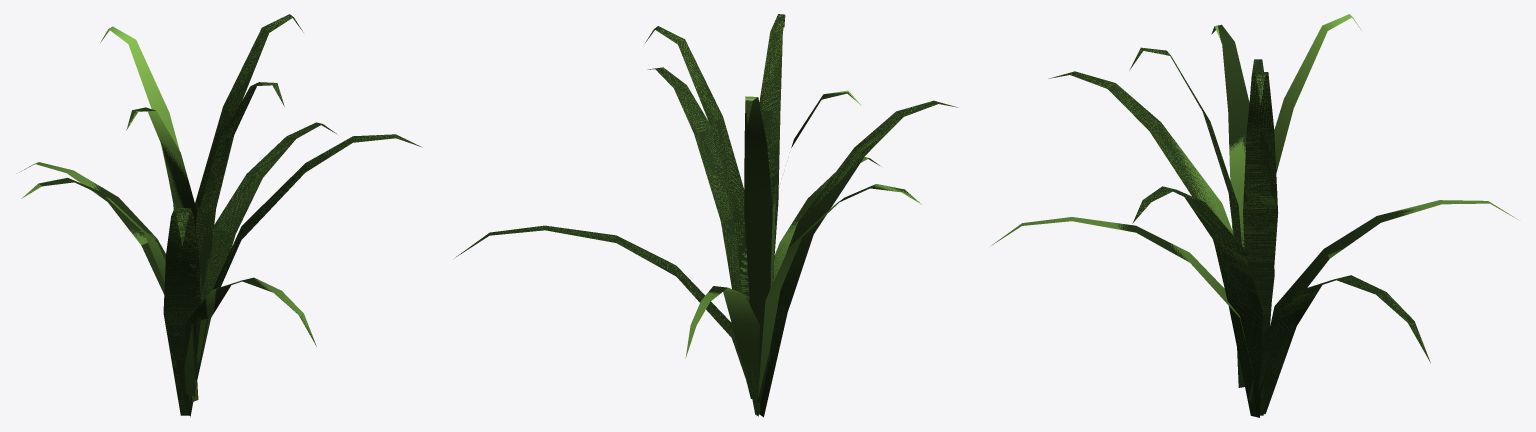
File: PlantTypeB.fbx
The picture shows the model from 3 angles, left to right: view 1: azimuth 30°, elevation 25°; view 2: azimuth 150°, elevation 25°; view 3: azimuth 270°, elevation 25°; orthographic projection. The views are drawn at different scales.
Visible parts, largest first — view 1: PlantTypeB; view 2: PlantTypeB; view 3: PlantTypeB.
Boxes of the visible parts, x1,y1,x2,y2 form: PlantTypeB: [19, 14, 422, 417]; PlantTypeB: [454, 14, 957, 417]; PlantTypeB: [991, 14, 1517, 417].
Size of the model in its own units: 65.98 by 58.76 by 72.08.
